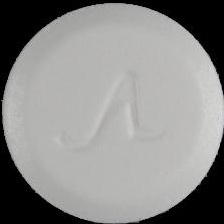43353-820: (0, 0, 224, 224)
